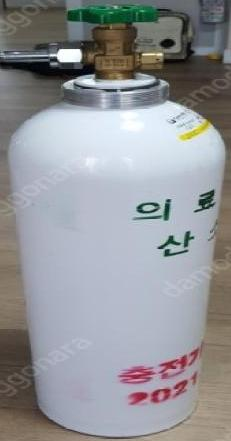cylinder: (1, 1, 231, 441)
